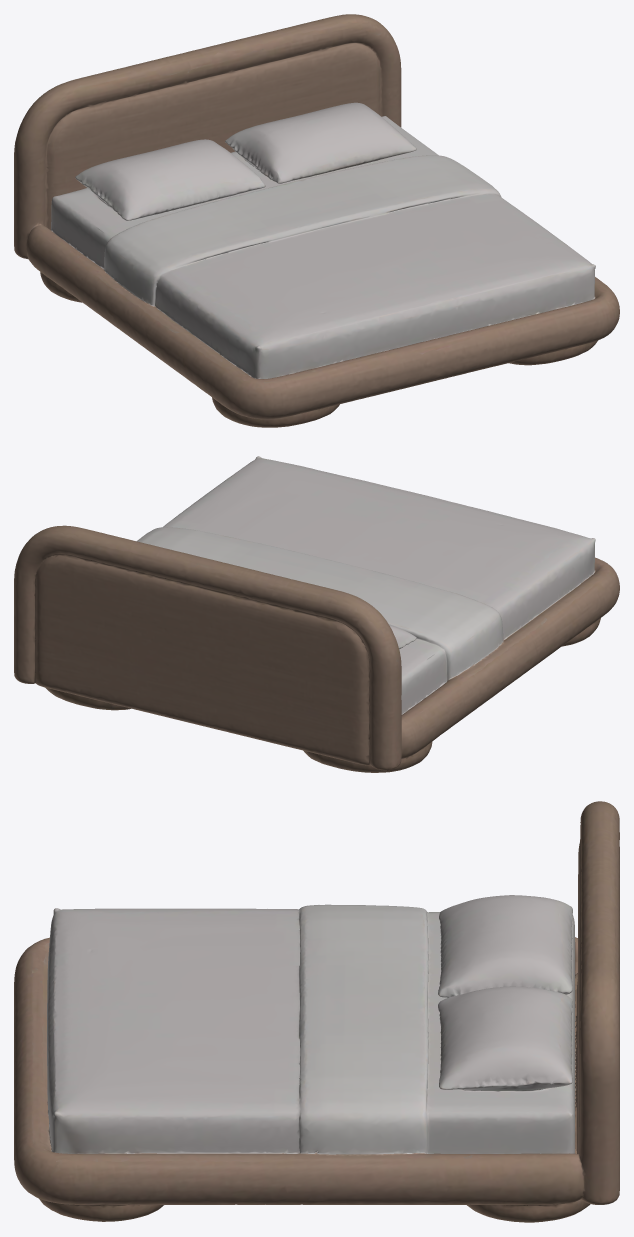
File: Upholstered Rounded Platform Bed [UQ6Nzu].glb
3 renders of one model, top to bottom at view 1: azimuth 30°, elevation 25°; view 2: azimuth 150°, elevation 25°; view 3: azimuth 270°, elevation 25°, orthographic. The views are drawn at different scales.
Parts seen in each view (by area): view 1: world; view 2: world; view 3: world.
Part boxes in pixels (x1,y1,x2,y2): world: [14, 14, 619, 427]; world: [14, 456, 619, 772]; world: [14, 801, 619, 1222].
Bounding box in the file's own units: 0.9318 × 0.4091 × 1.
Materials: 1 (1 with a texture image).
